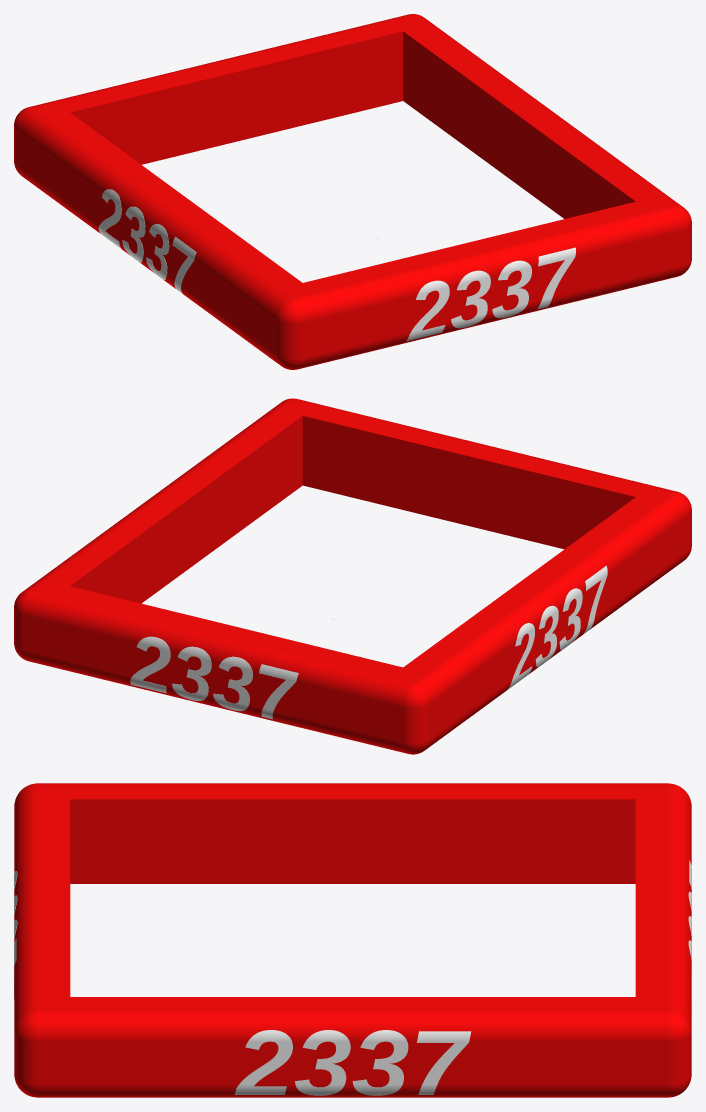
The model's file is bumper.fbx.
3 views of the same model, one above another, from view 1: azimuth 30°, elevation 25°; view 2: azimuth 150°, elevation 25°; view 3: azimuth 270°, elevation 25° (orthographic). The views are drawn at different scales.
Visible parts, largest first — view 1: Bumpers-with Numbers; view 2: Bumpers-with Numbers; view 3: Bumpers-with Numbers.
Part boxes in pixels (bbox=[...]): Bumpers-with Numbers: bbox=[14, 14, 691, 369]; Bumpers-with Numbers: bbox=[14, 398, 691, 754]; Bumpers-with Numbers: bbox=[14, 783, 691, 1097].
Size of the model in its own units: 78.82 by 15.44 by 92.15.
